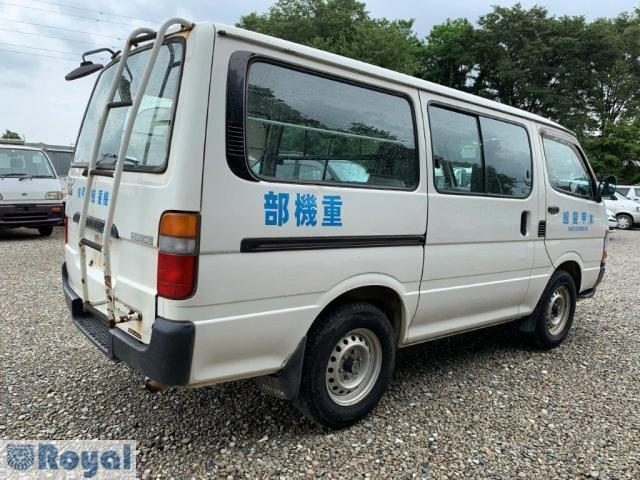van: (65, 15, 610, 411)
